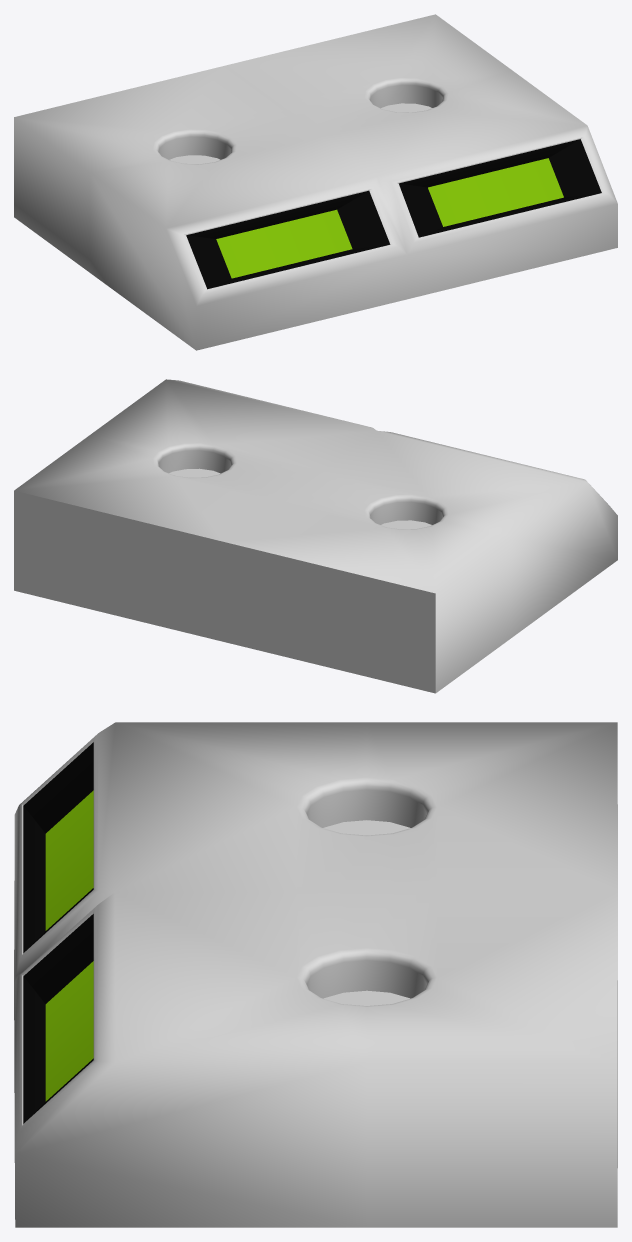
Rendered from Scales_AG.FBX.
The picture shows the model from 3 angles, top to bottom: view 1: azimuth 30°, elevation 25°; view 2: azimuth 150°, elevation 25°; view 3: azimuth 270°, elevation 25°; orthographic projection. The views are drawn at different scales.
Visible parts, largest first — view 1: Scales_Base; view 2: Scales_Base; view 3: Scales_Base.
Part boxes in pixels (bbox=[...]): Scales_Base: bbox=[14, 14, 617, 350]; Scales_Base: bbox=[14, 379, 617, 693]; Scales_Base: bbox=[14, 722, 617, 1227].
Bounding box in the file's own units: 15.7 × 3.94 × 11.78.
